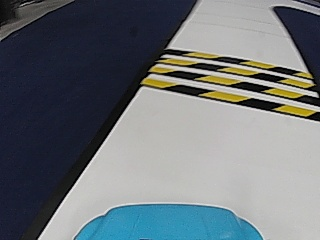bump: (166, 47, 298, 114)
